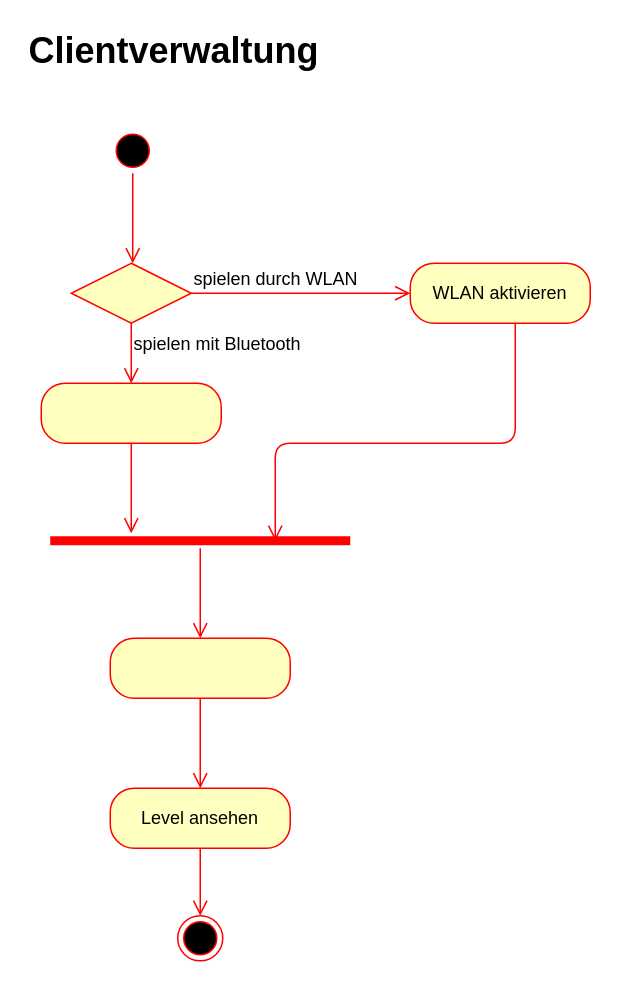
The diagram is 617 pixels wide and 987 high, and some of its shapes have lost their labels. Here are the shapes that lost their labels. From the top down, the box of each, then its label:
(40, 382, 221, 443): Bluetooth aktivieren
(109, 637, 290, 698): Server auswählen
